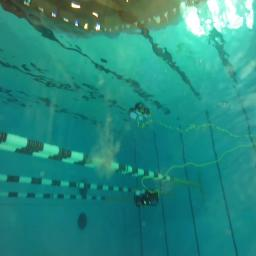front: (132, 188, 160, 208)
